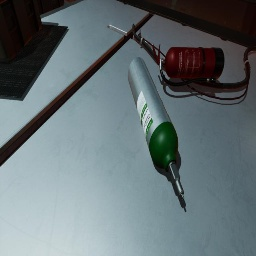0: (128, 57, 184, 200)
FireExtinguisher ]: (152, 44, 224, 87)
